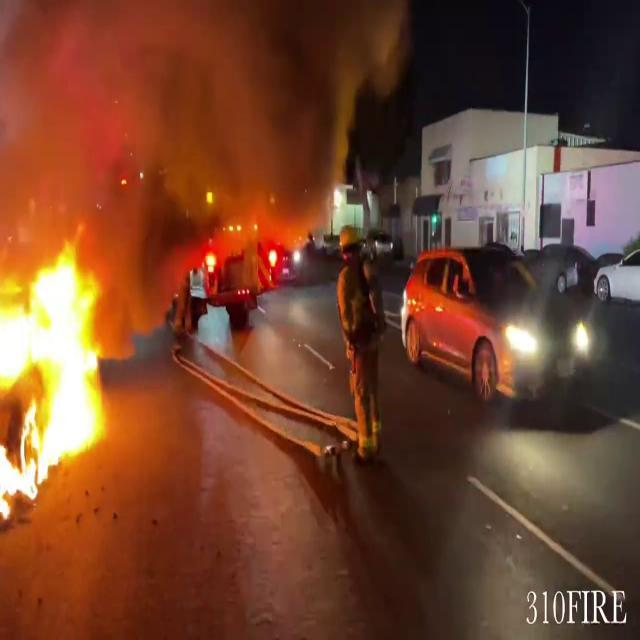Fire: (0, 237, 116, 516)
Smoke: (0, 0, 411, 276)
